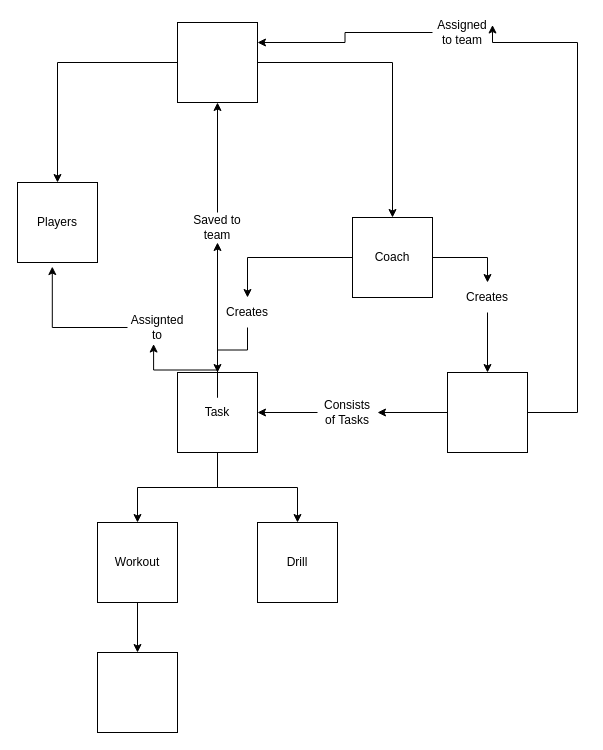
The diagram is 603 pixels wide and 750 high, and some of its shapes have lost their labels. Here are the shapes that lost their labels. From the top down, the centre of each, then its label:
At point 217,62: "Team".
At point 487,412: "Program".
At point 137,692: "Excersice".
